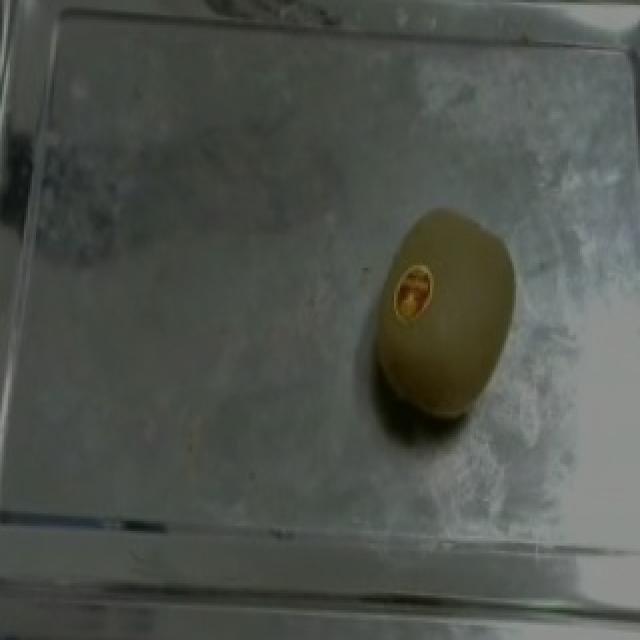Fruit: (364, 204, 526, 434)
